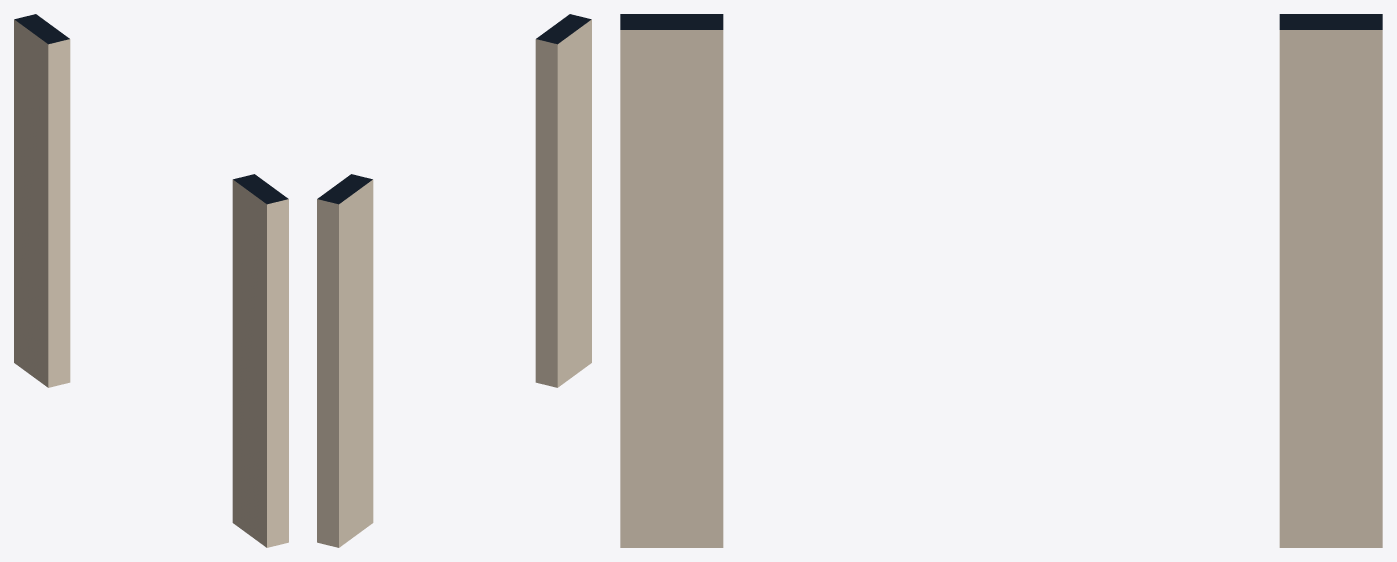
File: Porte_Simple_Mur2.FBX
3 views of the same model, side by side, from view 1: azimuth 30°, elevation 25°; view 2: azimuth 150°, elevation 25°; view 3: azimuth 270°, elevation 25° (orthographic). The views are drawn at different scales.
Parts seen in each view (by area): view 1: Porte_Simple_Mur2; view 2: Porte_Simple_Mur2; view 3: Porte_Simple_Mur2.
Part boxes in pixels (box(x1,y1,x2,y2)): Porte_Simple_Mur2: box(14, 14, 288, 547); Porte_Simple_Mur2: box(317, 14, 591, 547); Porte_Simple_Mur2: box(620, 14, 1382, 547).
Bounding box in the file's own units: 0.1 × 1.5 × 2.
